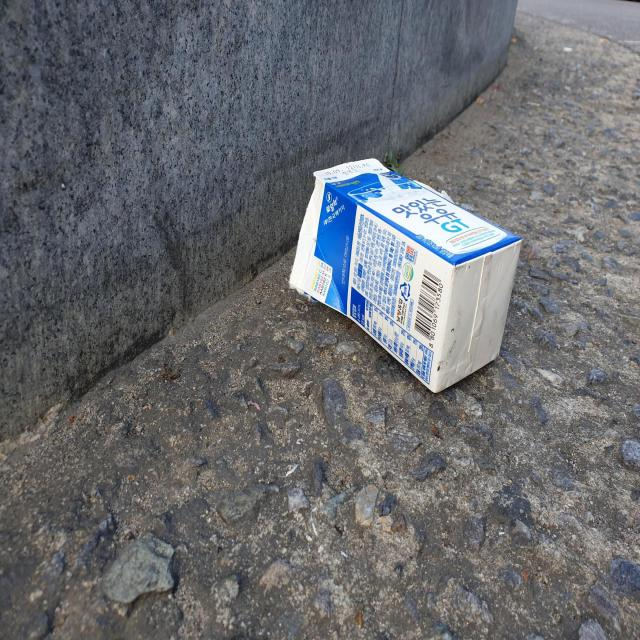paperpack: (290, 158, 522, 392)
